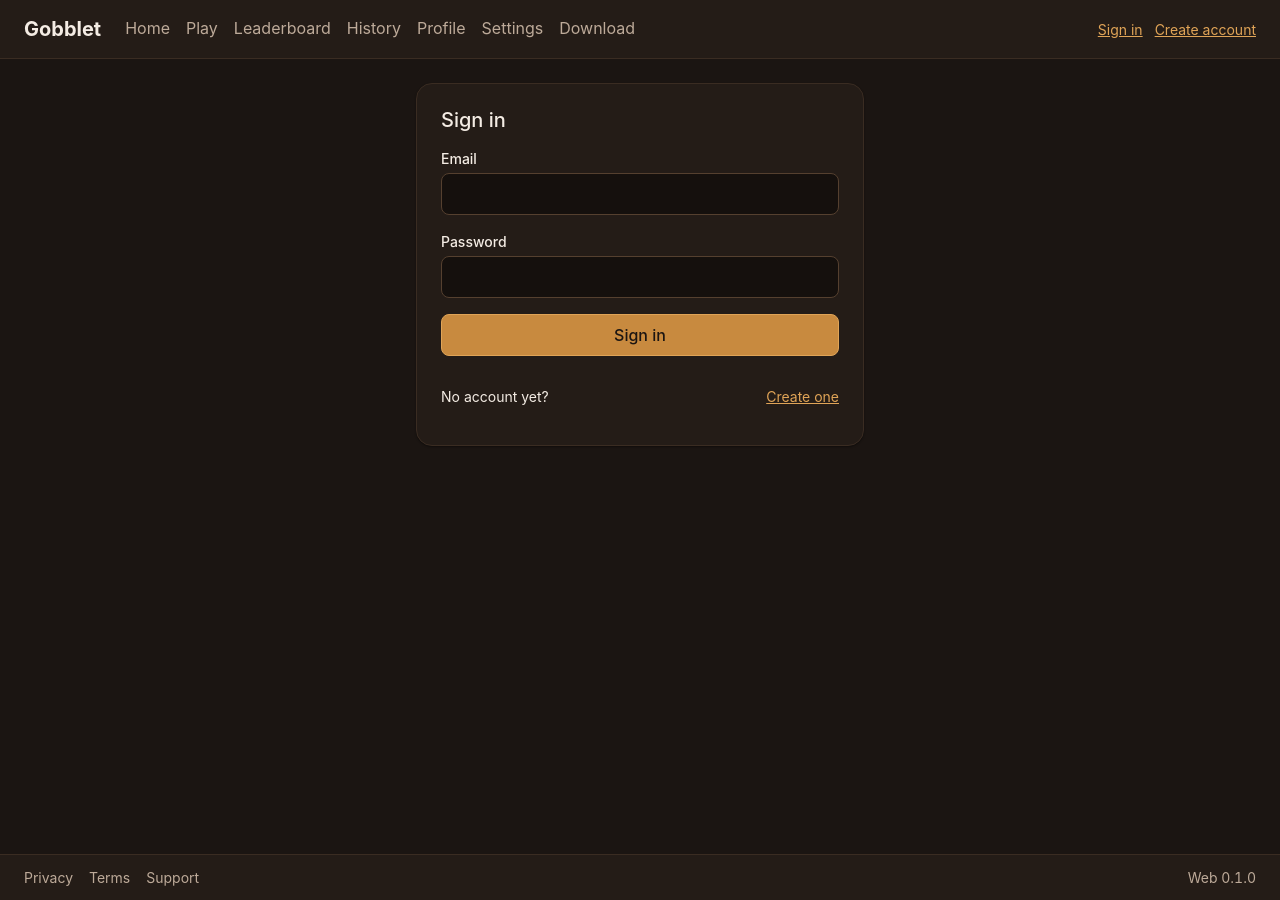
Test case: sign in › refuses to send credentials that cannot be valid
In the field labelled "Email": (640, 194) x1=441 y1=173 x2=839 y2=215, type "not-an-email"
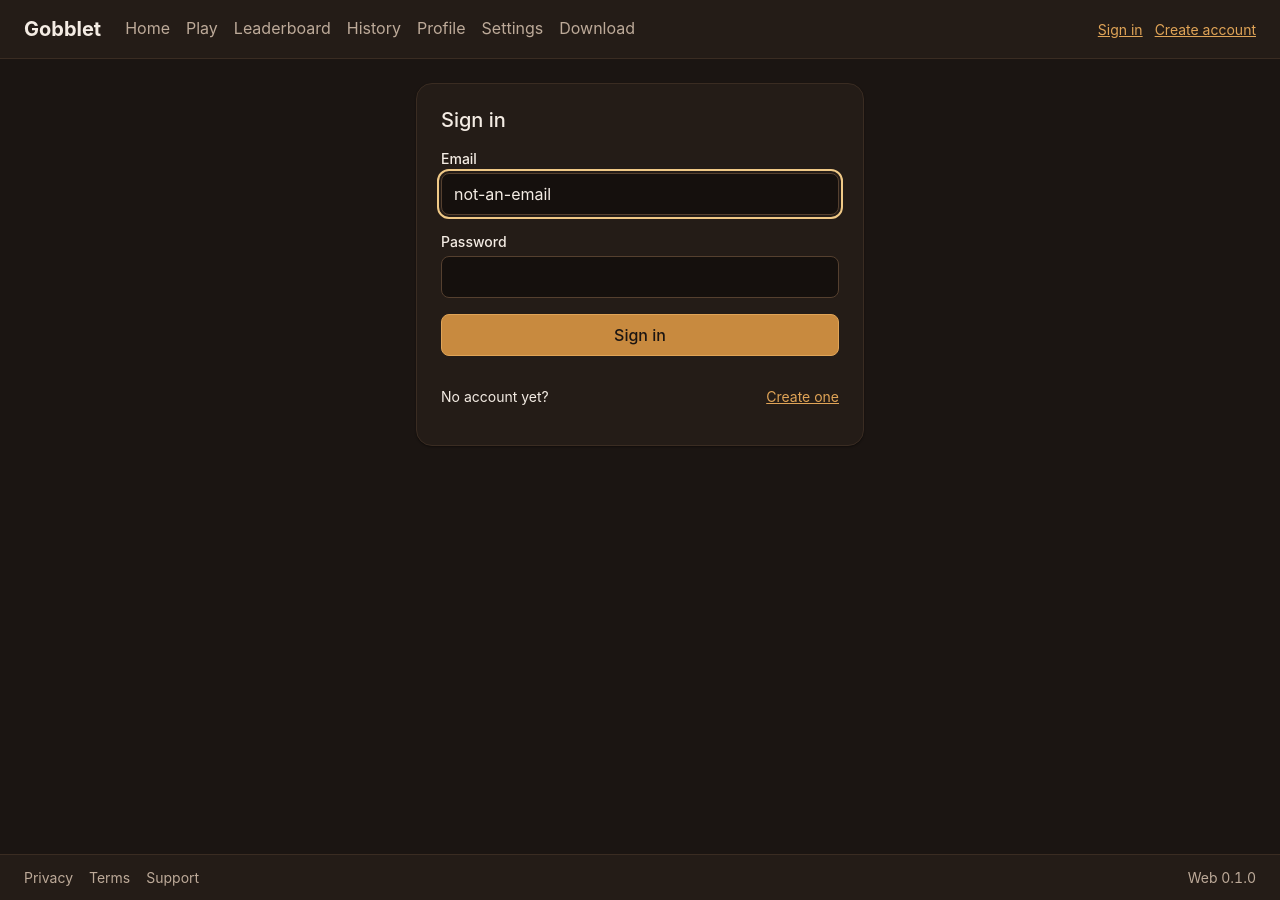
In the password field labelled "Password": (640, 277) x1=441 y1=256 x2=839 y2=298, type "short"
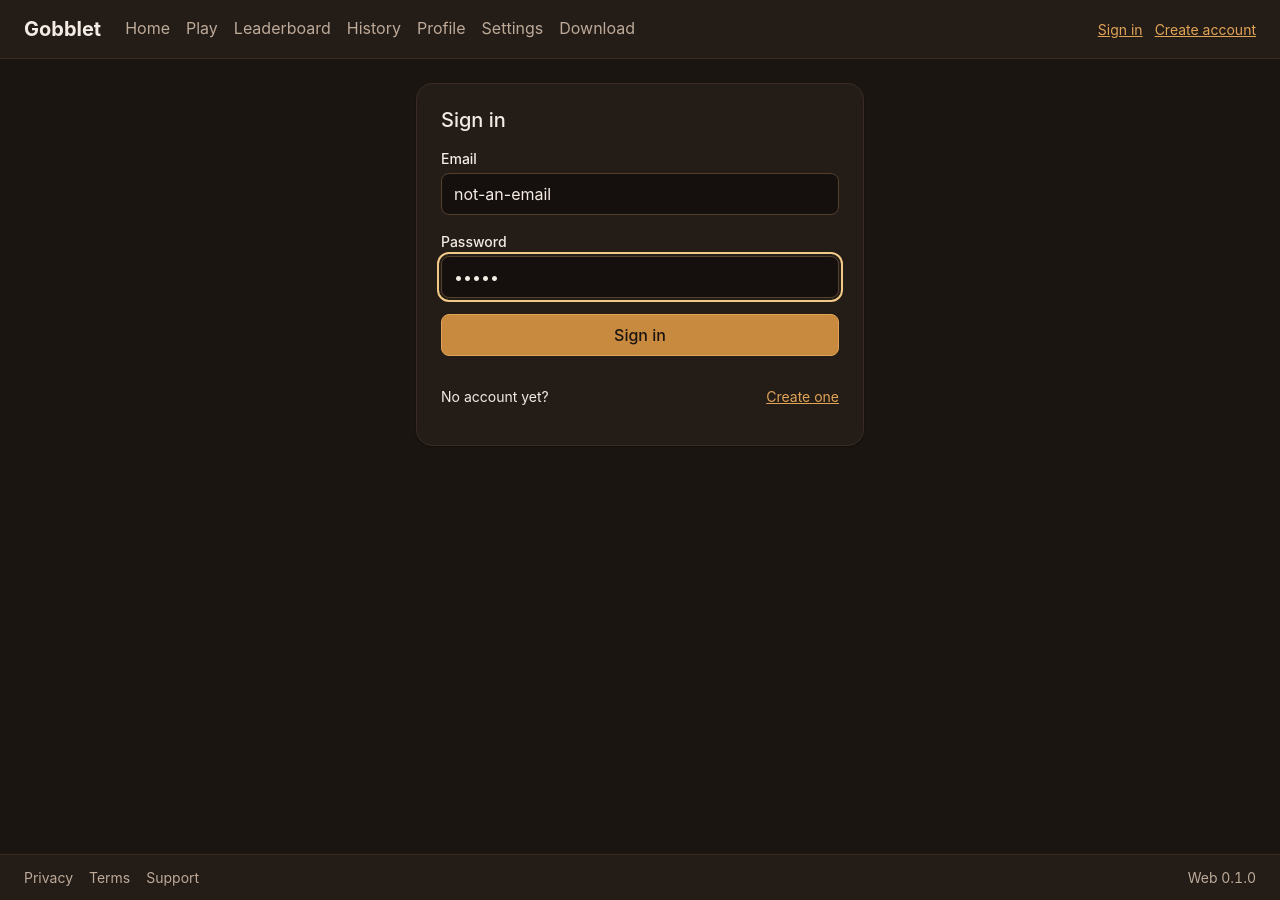
Click the button with test id "sign-in-submit": (640, 335) x1=441 y1=314 x2=839 y2=356
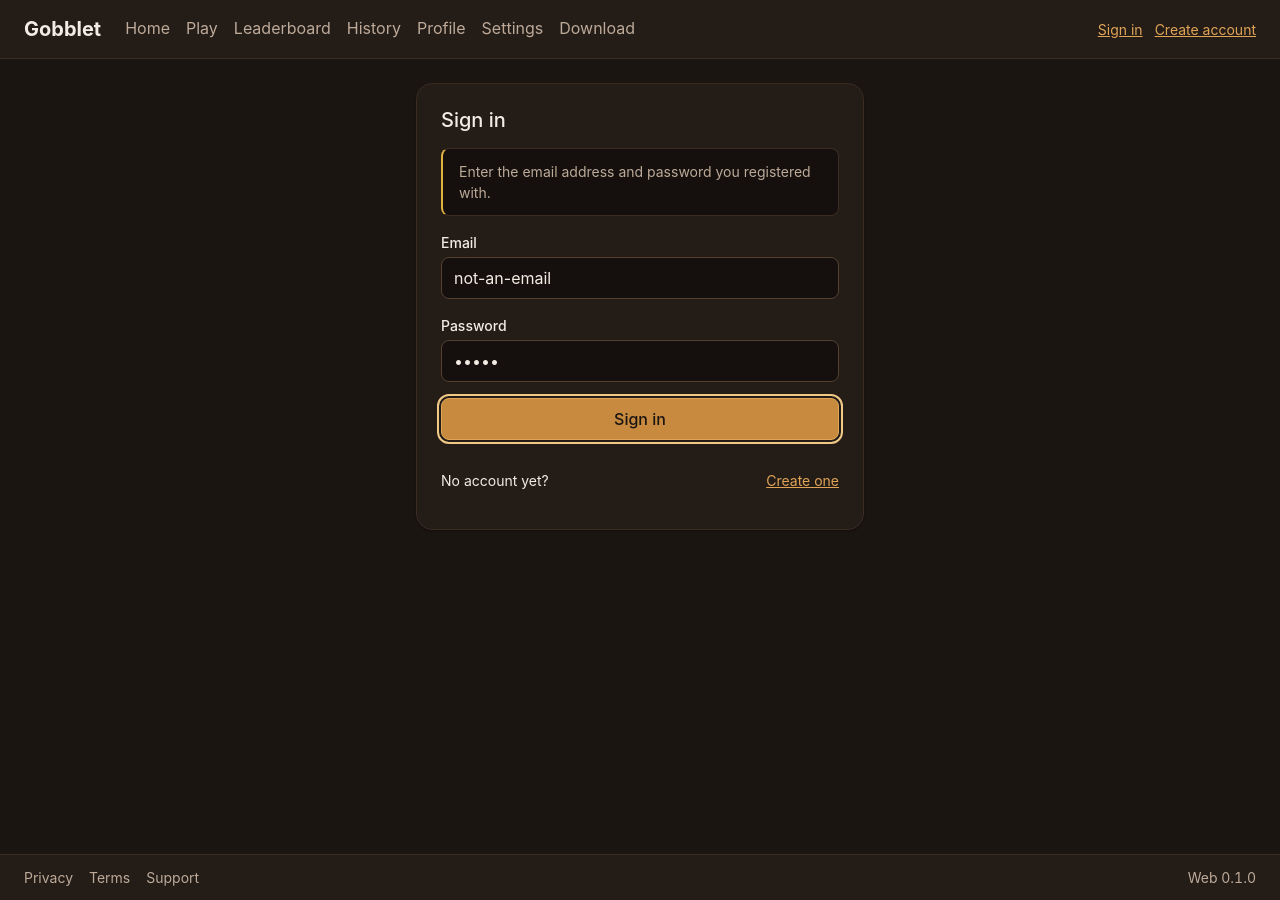
expect the message shows "Enter the email address": met, box x1=459 y1=163 x2=811 y2=201
